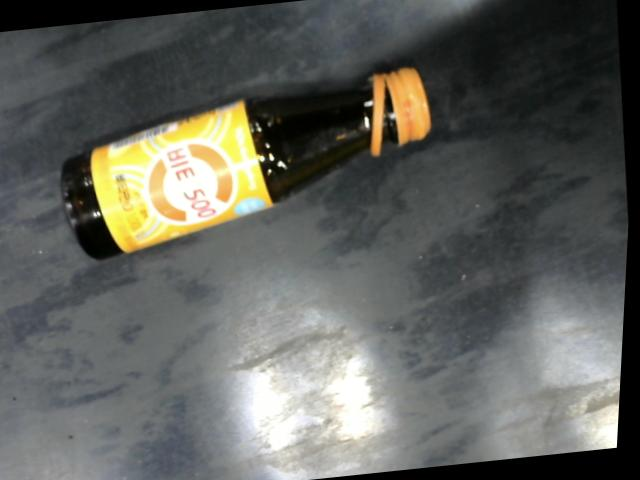glass: (60, 54, 445, 266)
